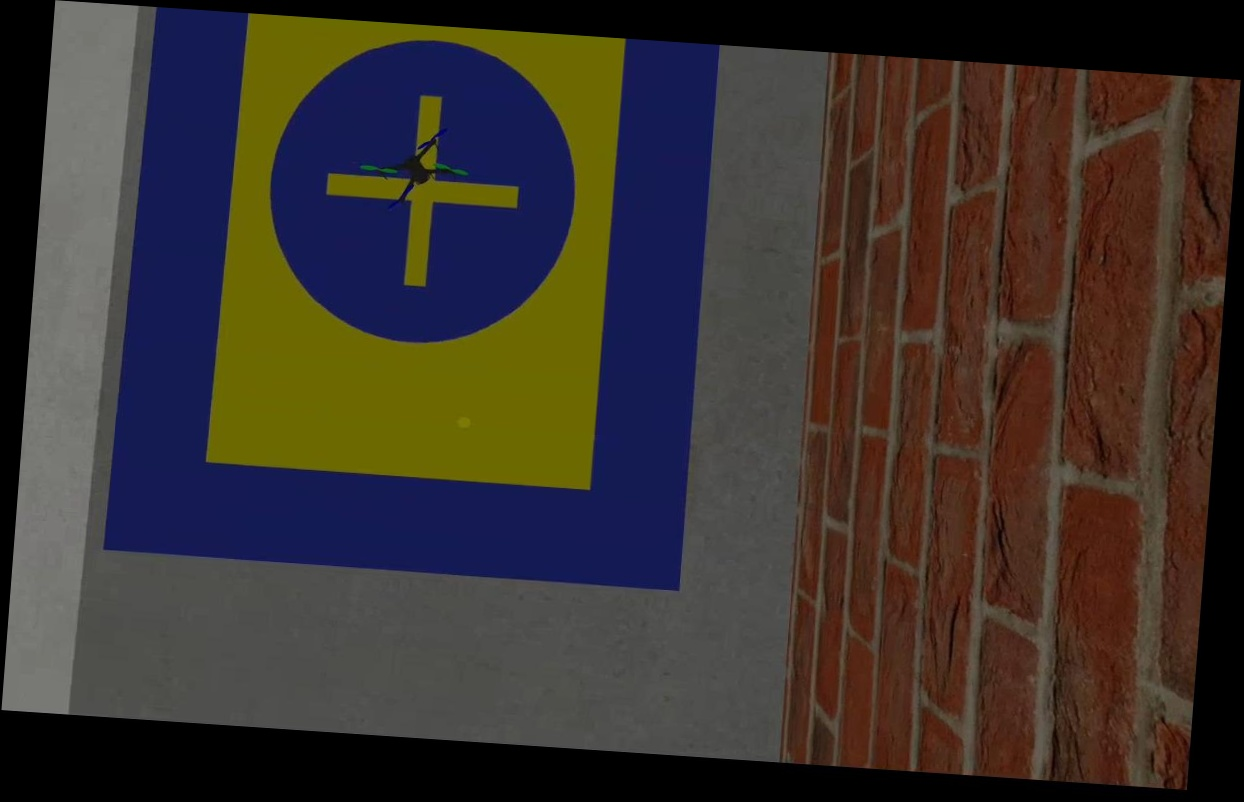large_base: (102, 6, 721, 593)
